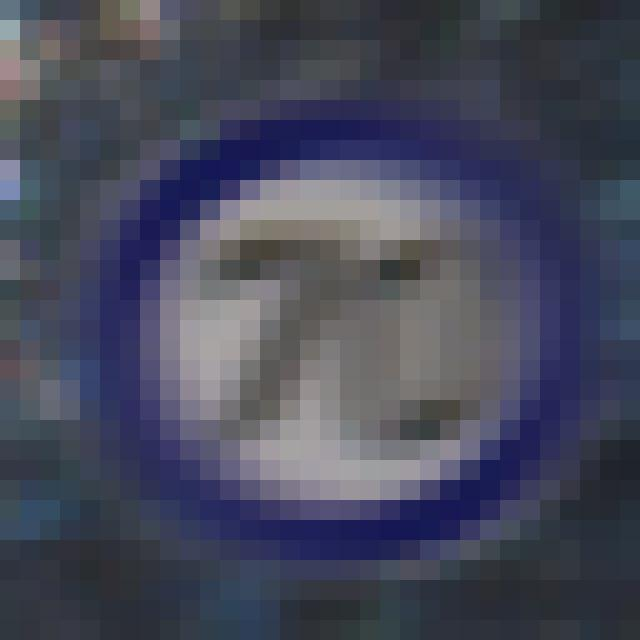SPEED LIMIT 70: (93, 113, 557, 542)
